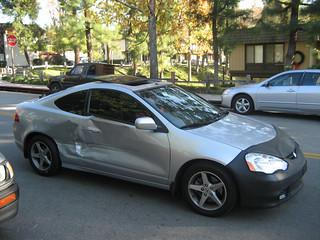doorouter-dent: (85, 116, 162, 181)
quaterpanel-dent: (14, 101, 83, 161)
